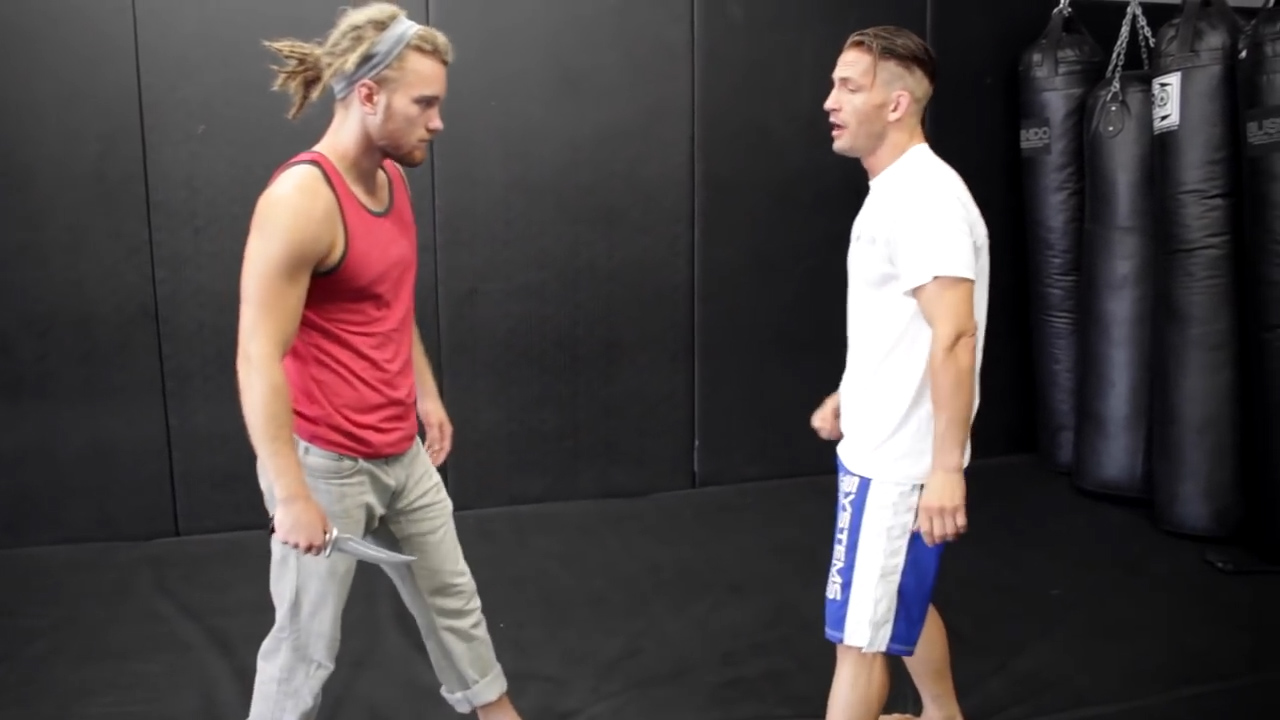knife: (249, 504, 428, 572)
